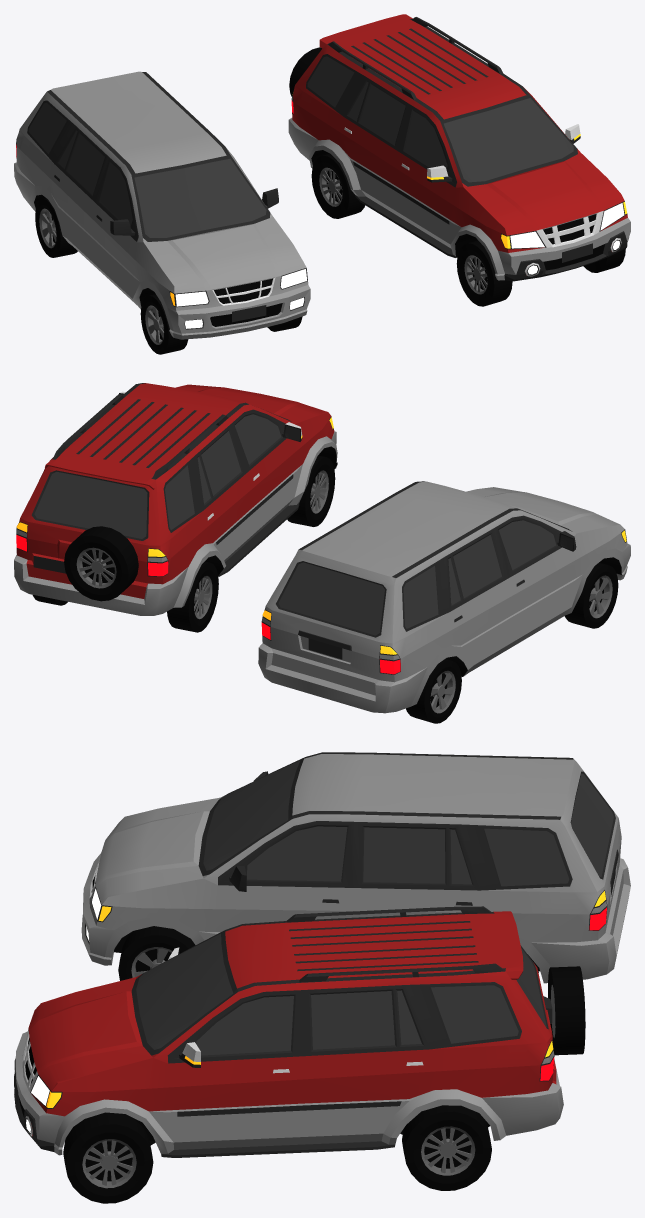
The model's file is lowpoly_mpvsuv.glb.
The picture shows the model from 3 angles, top to bottom: view 1: azimuth 30°, elevation 25°; view 2: azimuth 150°, elevation 25°; view 3: azimuth 270°, elevation 25°; orthographic projection. The views are drawn at different scales.
Visible parts, largest first — view 1: body2_4, body1_9, wheel.007_2, wheel.008_3, wheel.003_8, wheel.002_7, wheel.004_0; view 2: body1_9, body2_4, wheel.002_7, wheel.003_8, wheel.008_3, wheel.007_2; view 3: body2_4, body1_9, wheel.004_0, wheel.005_1, wheel_5.
Boxes of the visible parts, bbox=[...] form: body2_4: bbox=[288, 14, 630, 281]; body1_9: bbox=[14, 71, 310, 339]; wheel.007_2: bbox=[456, 240, 512, 306]; wheel.008_3: bbox=[311, 153, 364, 218]; wheel.003_8: bbox=[140, 294, 188, 354]; wheel.002_7: bbox=[35, 198, 77, 257]; wheel.004_0: bbox=[583, 248, 625, 272]; body1_9: bbox=[258, 481, 630, 713]; body2_4: bbox=[14, 383, 337, 615]; wheel.002_7: bbox=[406, 659, 461, 723]; wheel.003_8: bbox=[564, 562, 618, 628]; wheel.008_3: bbox=[167, 561, 218, 632]; wheel.007_2: bbox=[287, 455, 335, 526]; body2_4: bbox=[14, 906, 585, 1157]; body1_9: bbox=[81, 752, 630, 983]; wheel.004_0: bbox=[63, 1112, 153, 1203]; wheel.005_1: bbox=[402, 1105, 491, 1190]; wheel_5: bbox=[118, 926, 195, 980].
Bounding box in the file's own units: 5.47 × 1.83 × 4.91.
